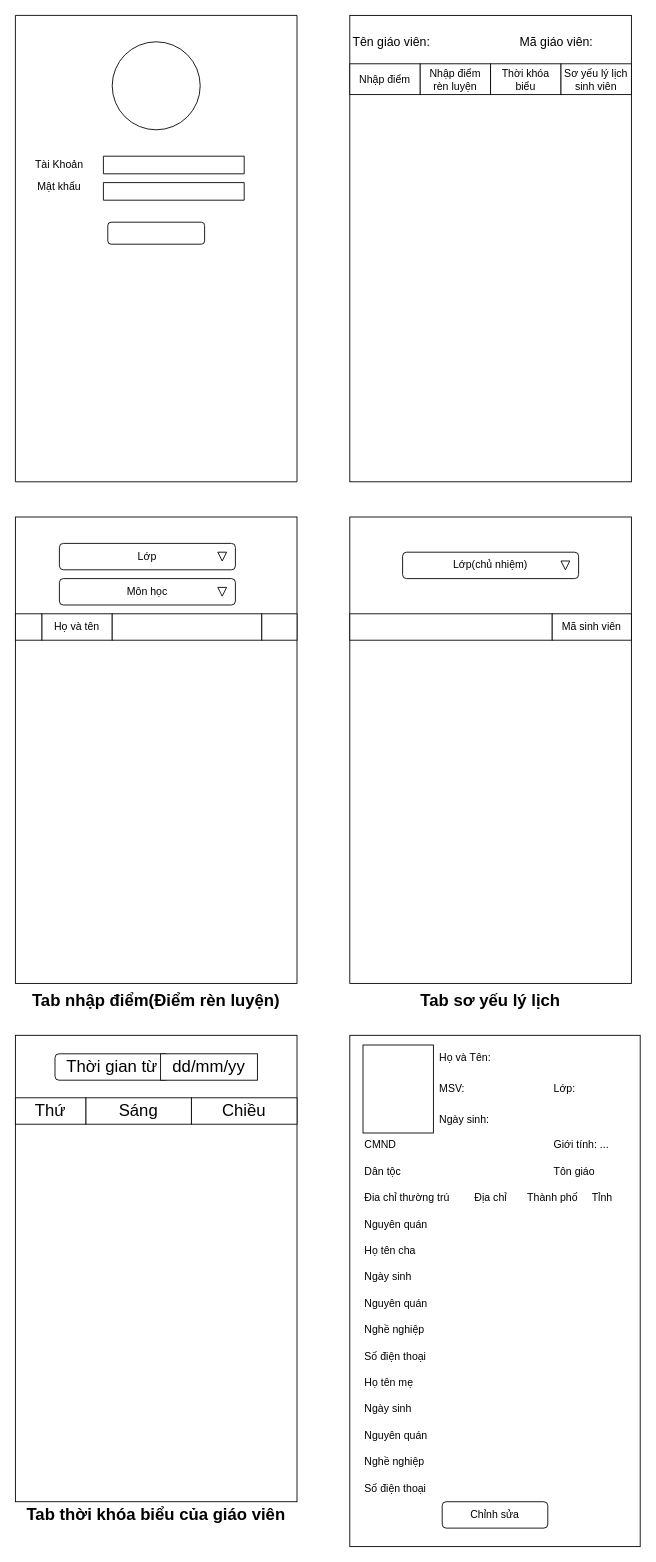
This 656x1562 diagram has some shape labels left out. The centre of each missing label's shape, as x and y in pixels:
"Họ và tên sinh viên" goes at point 450,626.
"Logo" goes at point 155,85.
"STT" goes at point 28,626.
"TBM" goes at point 279,626.
"Điểm thành phần" goes at point 186,626.
"Đăng nhập" goes at point 156,232.
"Ảnh" goes at point 397,1088.
